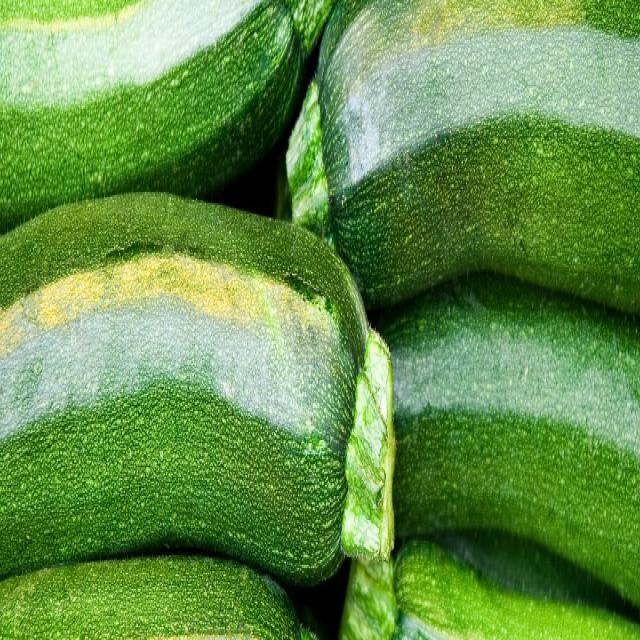Zucchini: (0, 219, 401, 582)
